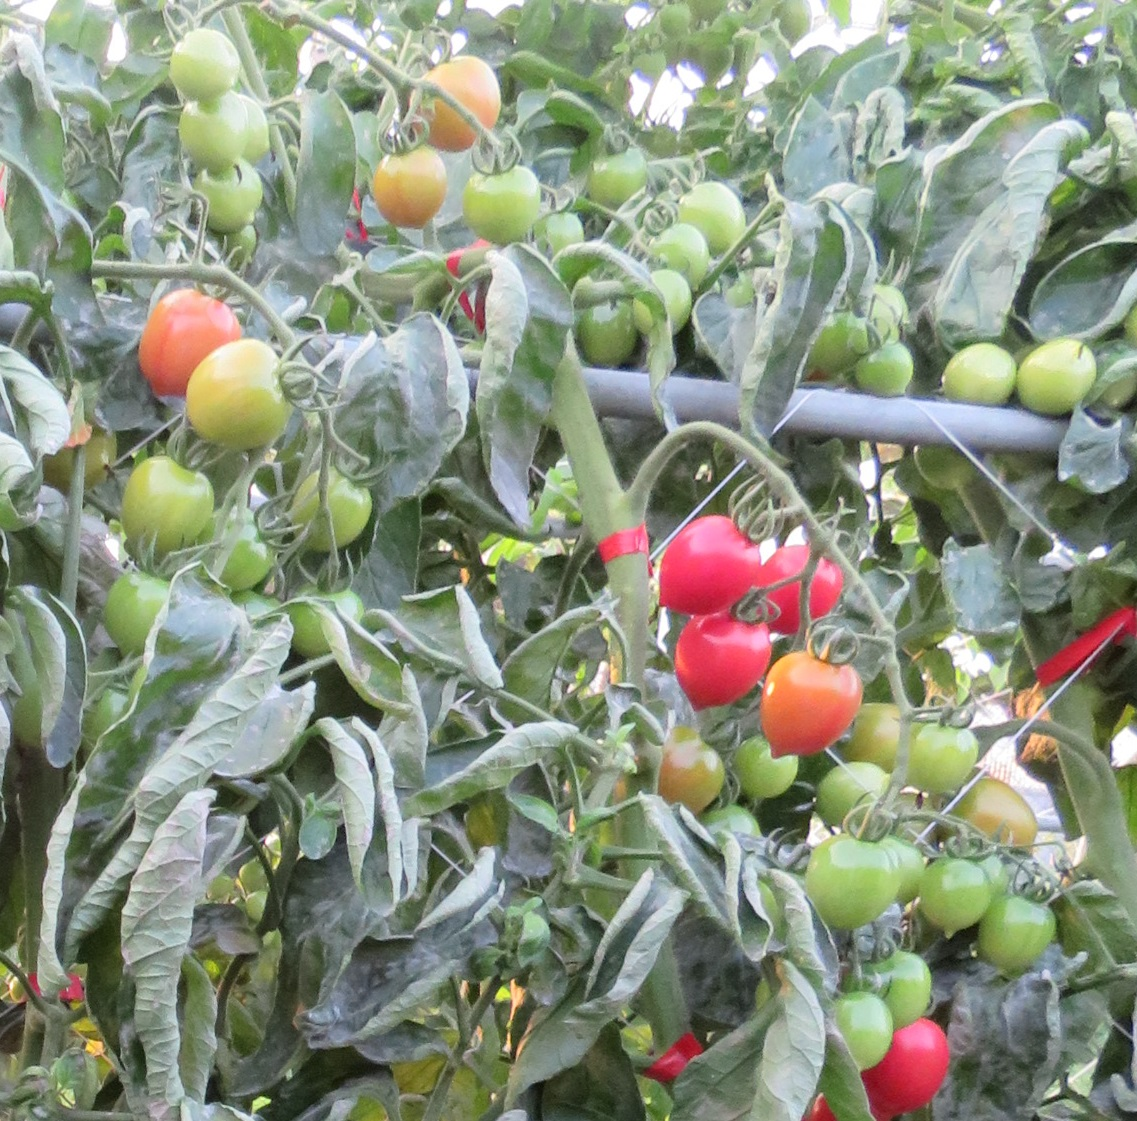green: (187, 334, 284, 453), (116, 459, 215, 549), (949, 775, 1048, 858), (805, 837, 889, 929), (974, 901, 1068, 977), (1017, 342, 1100, 424), (277, 585, 369, 653), (207, 506, 277, 593), (177, 85, 250, 167), (292, 470, 371, 546), (731, 728, 803, 810), (919, 858, 990, 942), (107, 572, 174, 659), (470, 170, 543, 247), (936, 344, 1020, 410), (169, 23, 244, 94), (191, 164, 273, 228), (658, 741, 730, 809), (909, 724, 977, 794), (632, 264, 699, 335), (817, 763, 890, 827), (833, 984, 890, 1065), (676, 179, 759, 229), (814, 304, 877, 368), (588, 297, 637, 372), (589, 153, 657, 203), (861, 345, 917, 402), (651, 221, 712, 270), (897, 945, 930, 1030)
orange: (757, 651, 866, 763), (132, 291, 248, 392), (406, 54, 506, 152), (365, 149, 454, 231)
red: (653, 517, 774, 617), (668, 604, 777, 700), (868, 1016, 949, 1109), (768, 548, 842, 631)
